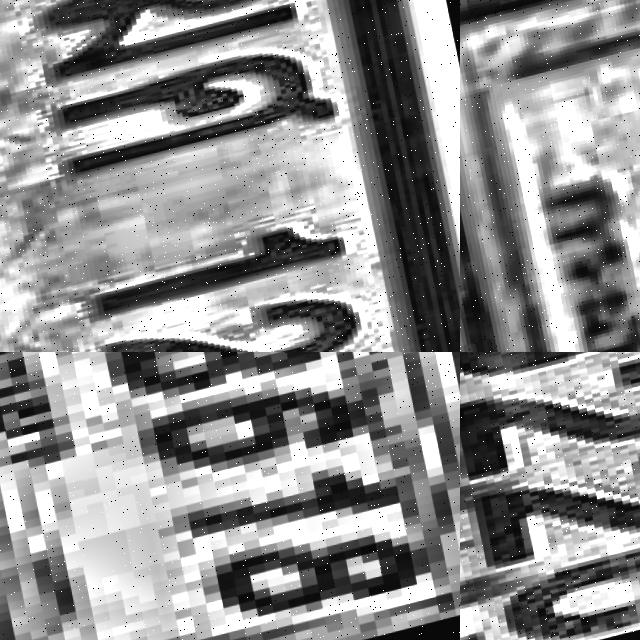license-plate: (0, 0, 460, 352), (0, 352, 460, 640), (460, 0, 640, 352), (460, 352, 640, 640)
